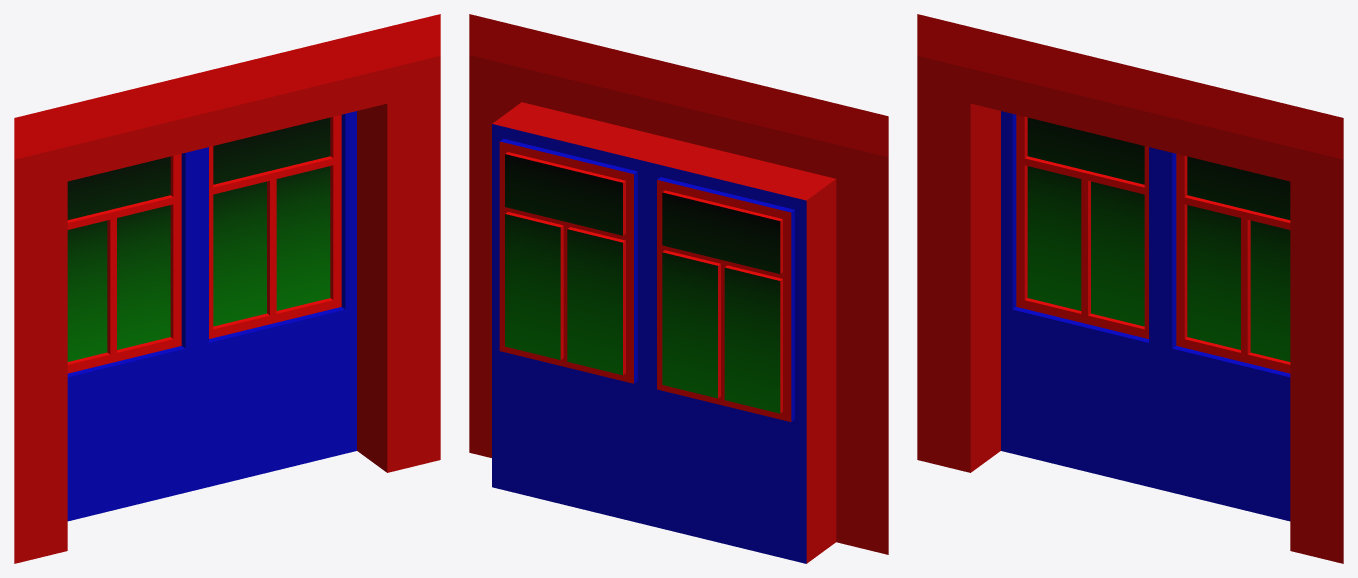
The model's file is Wall_Door.FBX.
3 renders of one model, left to right at view 1: azimuth 30°, elevation 25°; view 2: azimuth 150°, elevation 25°; view 3: azimuth 330°, elevation 25°, orthographic.
Parts seen in each view (by area): view 1: Wall_Door; view 2: Wall_Door; view 3: Wall_Door.
Part boxes in pixels (x1=…): Wall_Door: x1=14, y1=14, x2=440, y2=563; Wall_Door: x1=469, y1=14, x2=888, y2=563; Wall_Door: x1=917, y1=14, x2=1343, y2=563.
Size of the model in its own units: 2.56 by 2.56 by 0.3842.
